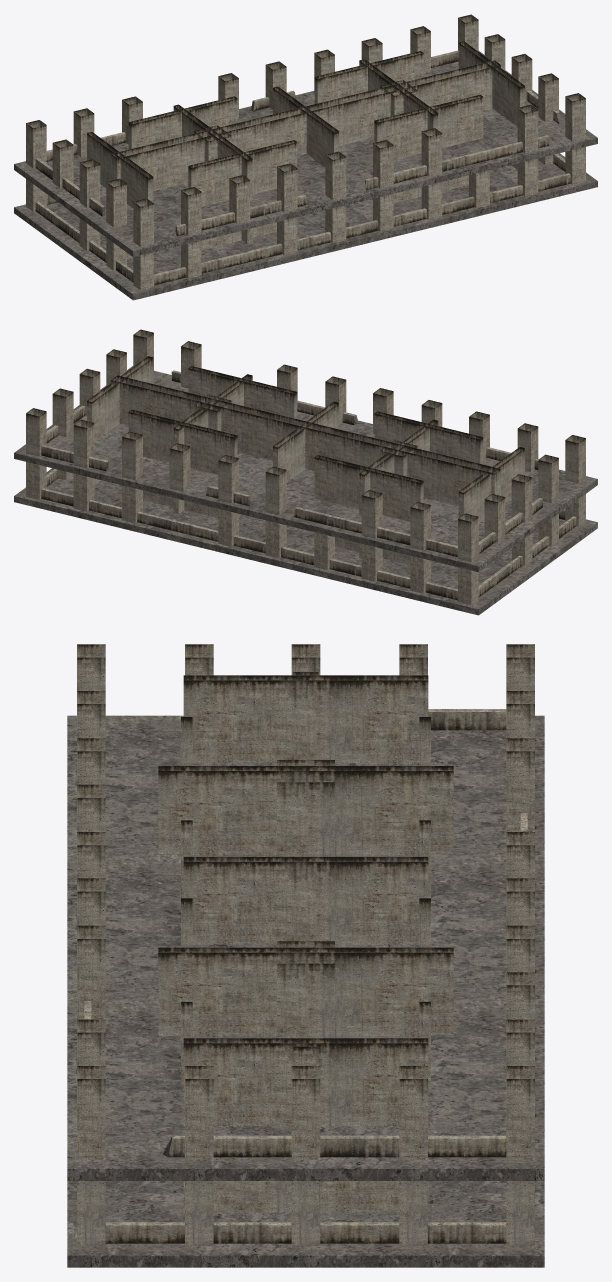
The model's file is Build6A_el2.fbx.
The picture shows the model from 3 angles, top to bottom: view 1: azimuth 30°, elevation 25°; view 2: azimuth 150°, elevation 25°; view 3: azimuth 270°, elevation 25°; orthographic projection. The views are drawn at different scales.
Parts seen in each view (by area): view 1: polySurface293; view 2: polySurface293; view 3: polySurface293.
Boxes of the visible parts, x1,y1,x2,y2 form: polySurface293: (14,14,597,300); polySurface293: (14,329,597,615); polySurface293: (67,644,544,1267).
Bounding box in the file's own units: 45 × 8.39 × 20.
